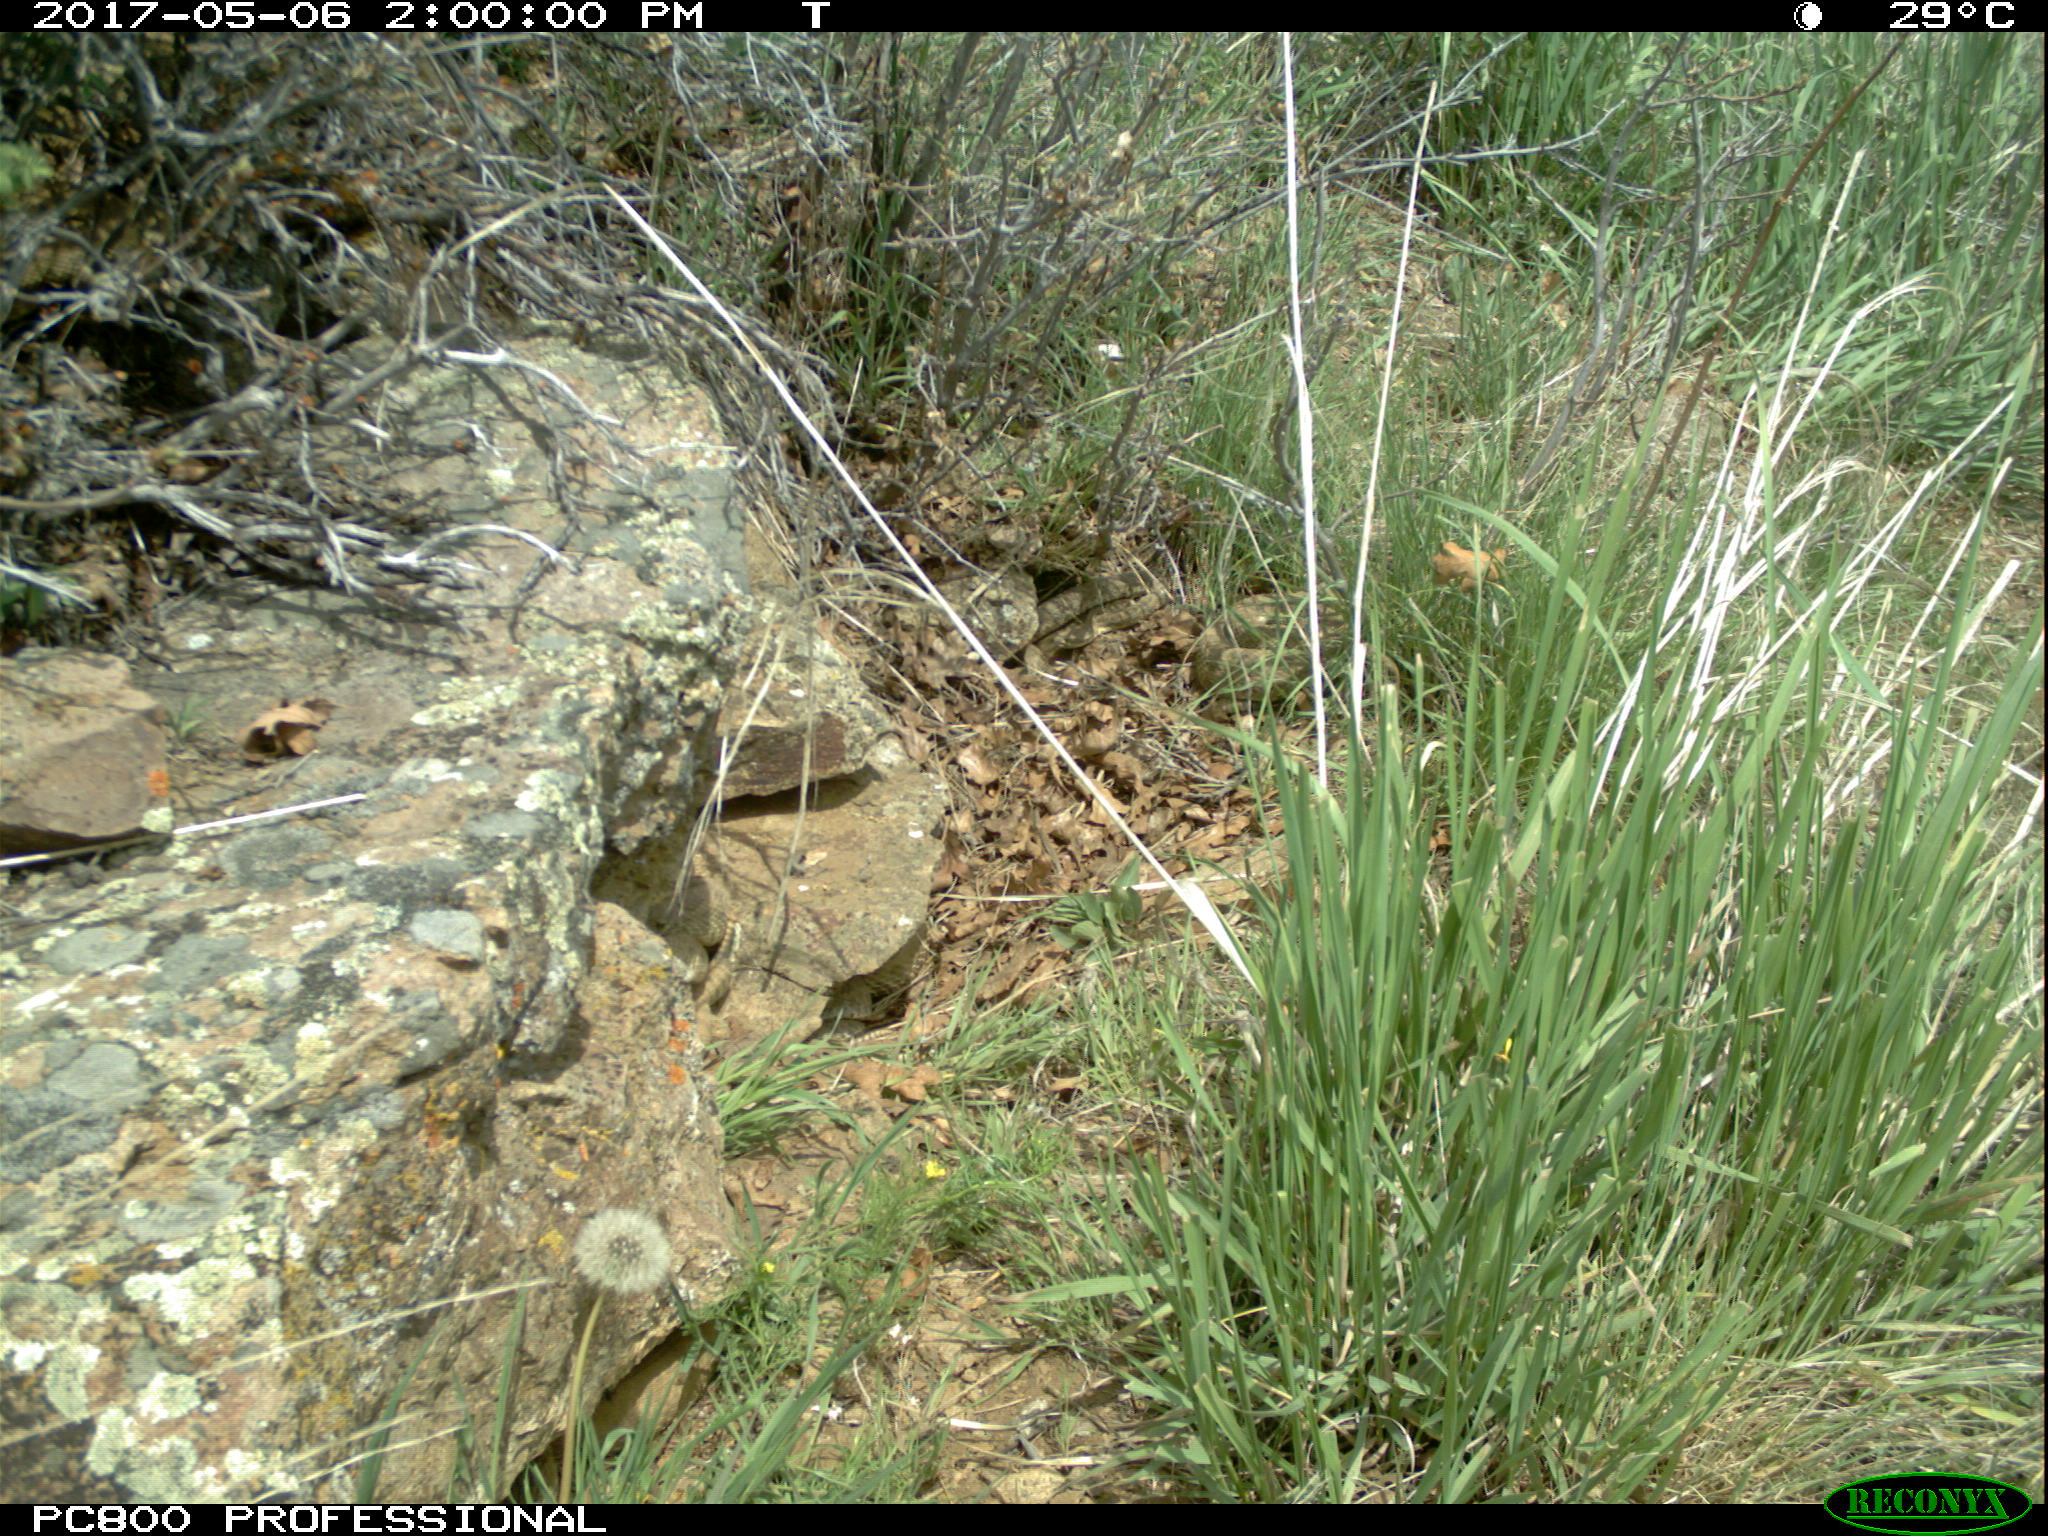snake: (1187, 592, 1358, 699), (642, 862, 751, 1004), (581, 1347, 731, 1446)
